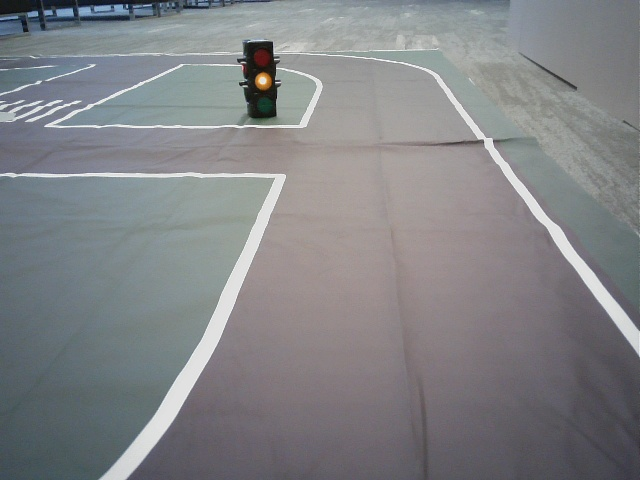yellow: (246, 45, 276, 115)
